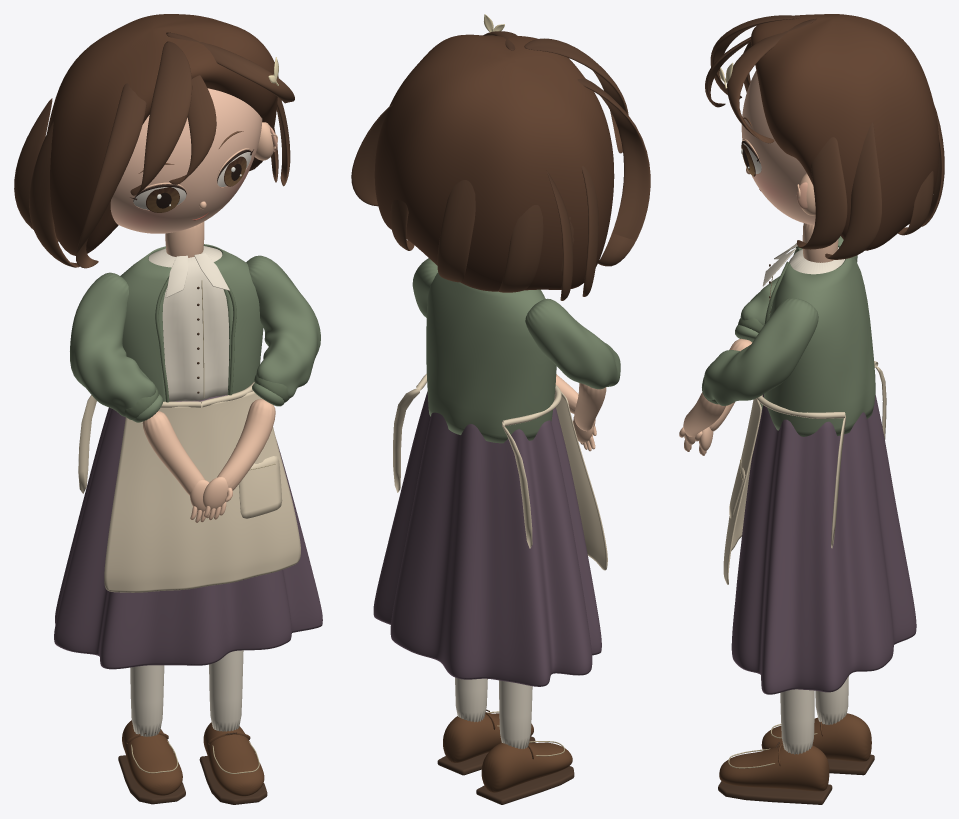
Rendered from misaki-model.glb.
The picture shows the model from 3 angles, left to right: view 1: azimuth 30°, elevation 25°; view 2: azimuth 150°, elevation 25°; view 3: azimuth 270°, elevation 25°; orthographic projection. The views are drawn at different scales.
Parts seen in each view (by area): view 1: target-proof/clothes, target-proof/hair, target-proof/skin, target-proof/shoes, target-proof/eyes; view 2: target-proof/clothes, target-proof/hair, target-proof/shoes, target-proof/skin; view 3: target-proof/clothes, target-proof/hair, target-proof/shoes, target-proof/skin, target-proof/eyes.
Boxes of the visible parts, x1=… form: target-proof/clothes: x1=54, y1=244, x2=322, y2=736; target-proof/hair: x1=14, y1=14, x2=294, y2=268; target-proof/skin: x1=110, y1=88, x2=277, y2=522; target-proof/shoes: x1=118, y1=720, x2=267, y2=804; target-proof/eyes: x1=130, y1=131, x2=253, y2=220; target-proof/clothes: x1=373, y1=258, x2=620, y2=748; target-proof/hair: x1=351, y1=31, x2=650, y2=300; target-proof/shoes: x1=437, y1=709, x2=574, y2=804; target-proof/skin: x1=555, y1=374, x2=606, y2=451; target-proof/clothes: x1=702, y1=236, x2=916, y2=754; target-proof/hair: x1=705, y1=14, x2=944, y2=259; target-proof/shoes: x1=718, y1=713, x2=874, y2=804; target-proof/skin: x1=679, y1=70, x2=838, y2=455; target-proof/eyes: x1=741, y1=117, x2=761, y2=190.
Bounding box in the file's own units: 0.5343 × 1.55 × 0.4978.
